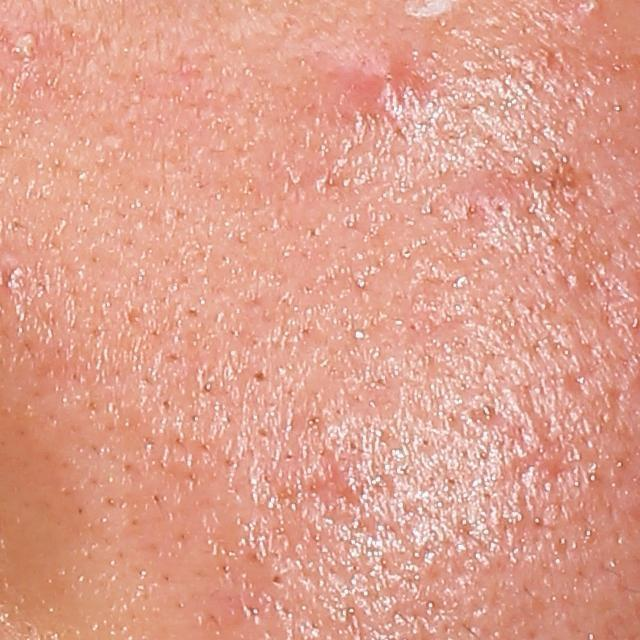comedo: (249, 370, 267, 382)
pustule: (12, 27, 43, 57)
